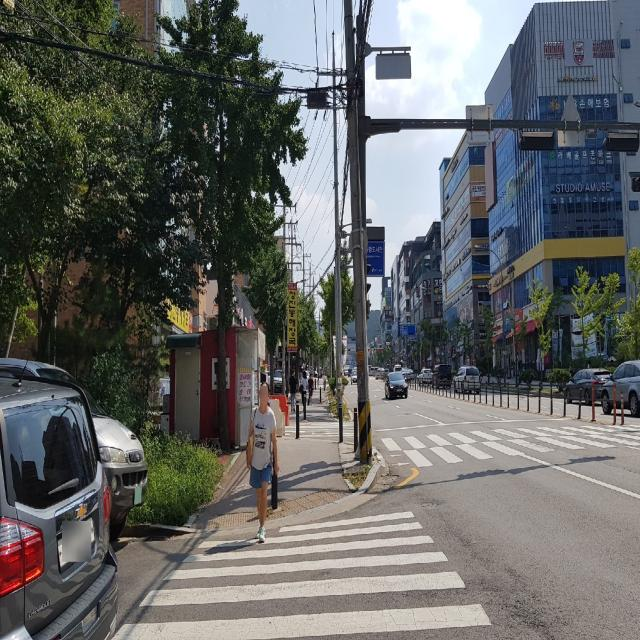횡단보도: (111, 511, 492, 640), (375, 428, 640, 466)
